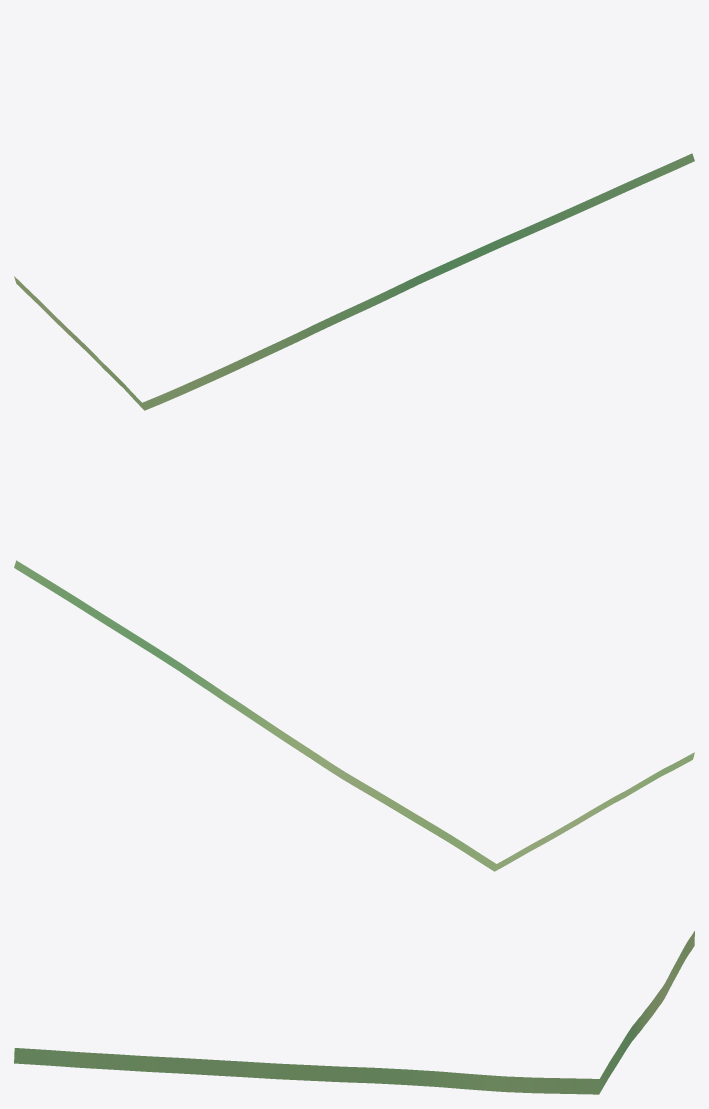
3 views of the same model, one above another, from view 1: azimuth 30°, elevation 25°; view 2: azimuth 150°, elevation 25°; view 3: azimuth 270°, elevation 25° (orthographic). The views are drawn at different scales.
Visible parts, largest first — view 1: geometry_0; view 2: geometry_0; view 3: geometry_0.
Part boxes in pixels (bbox=[...]): geometry_0: bbox=[14, 153, 694, 410]; geometry_0: bbox=[14, 560, 694, 871]; geometry_0: bbox=[14, 931, 694, 1094].
Size of the model in its own units: 160796 by 47386 by 105296.
